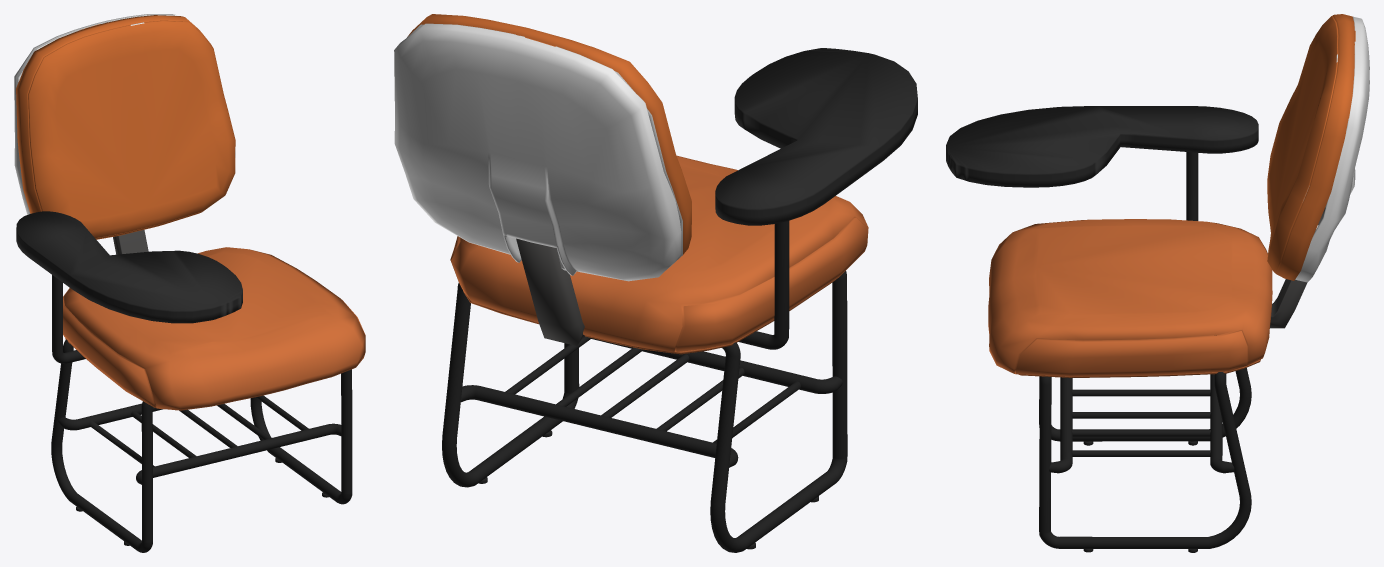
Rendered from Cadeiras LAB4 e Audio telma(trevo).fbx.
3 renders of one model, left to right at view 1: azimuth 30°, elevation 25°; view 2: azimuth 150°, elevation 25°; view 3: azimuth 270°, elevation 25°, orthographic. The views are drawn at different scales.
Visible parts, largest first — view 1: cadeira sala de costura; view 2: cadeira sala de costura; view 3: cadeira sala de costura.
Part boxes in pixels (<box>): cadeira sala de costura: <box>14,14,365,552</box>; cadeira sala de costura: <box>394,14,917,552</box>; cadeira sala de costura: <box>946,14,1369,552</box>.
Bounding box in the file's own units: 0.7237 × 1.07 × 0.9017.
